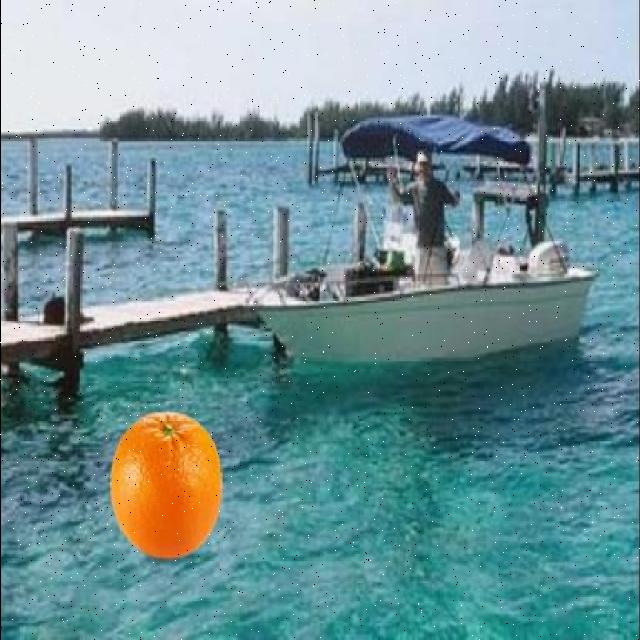Orange: (109, 411, 225, 560)
